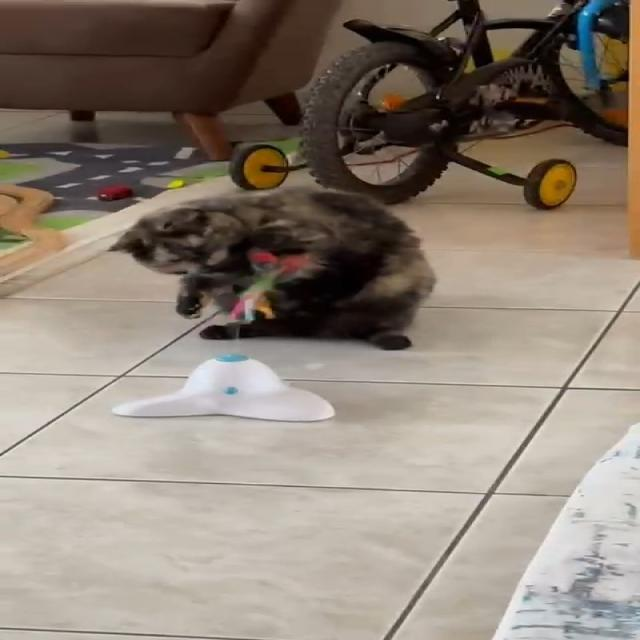authorized: (105, 186, 436, 350)
